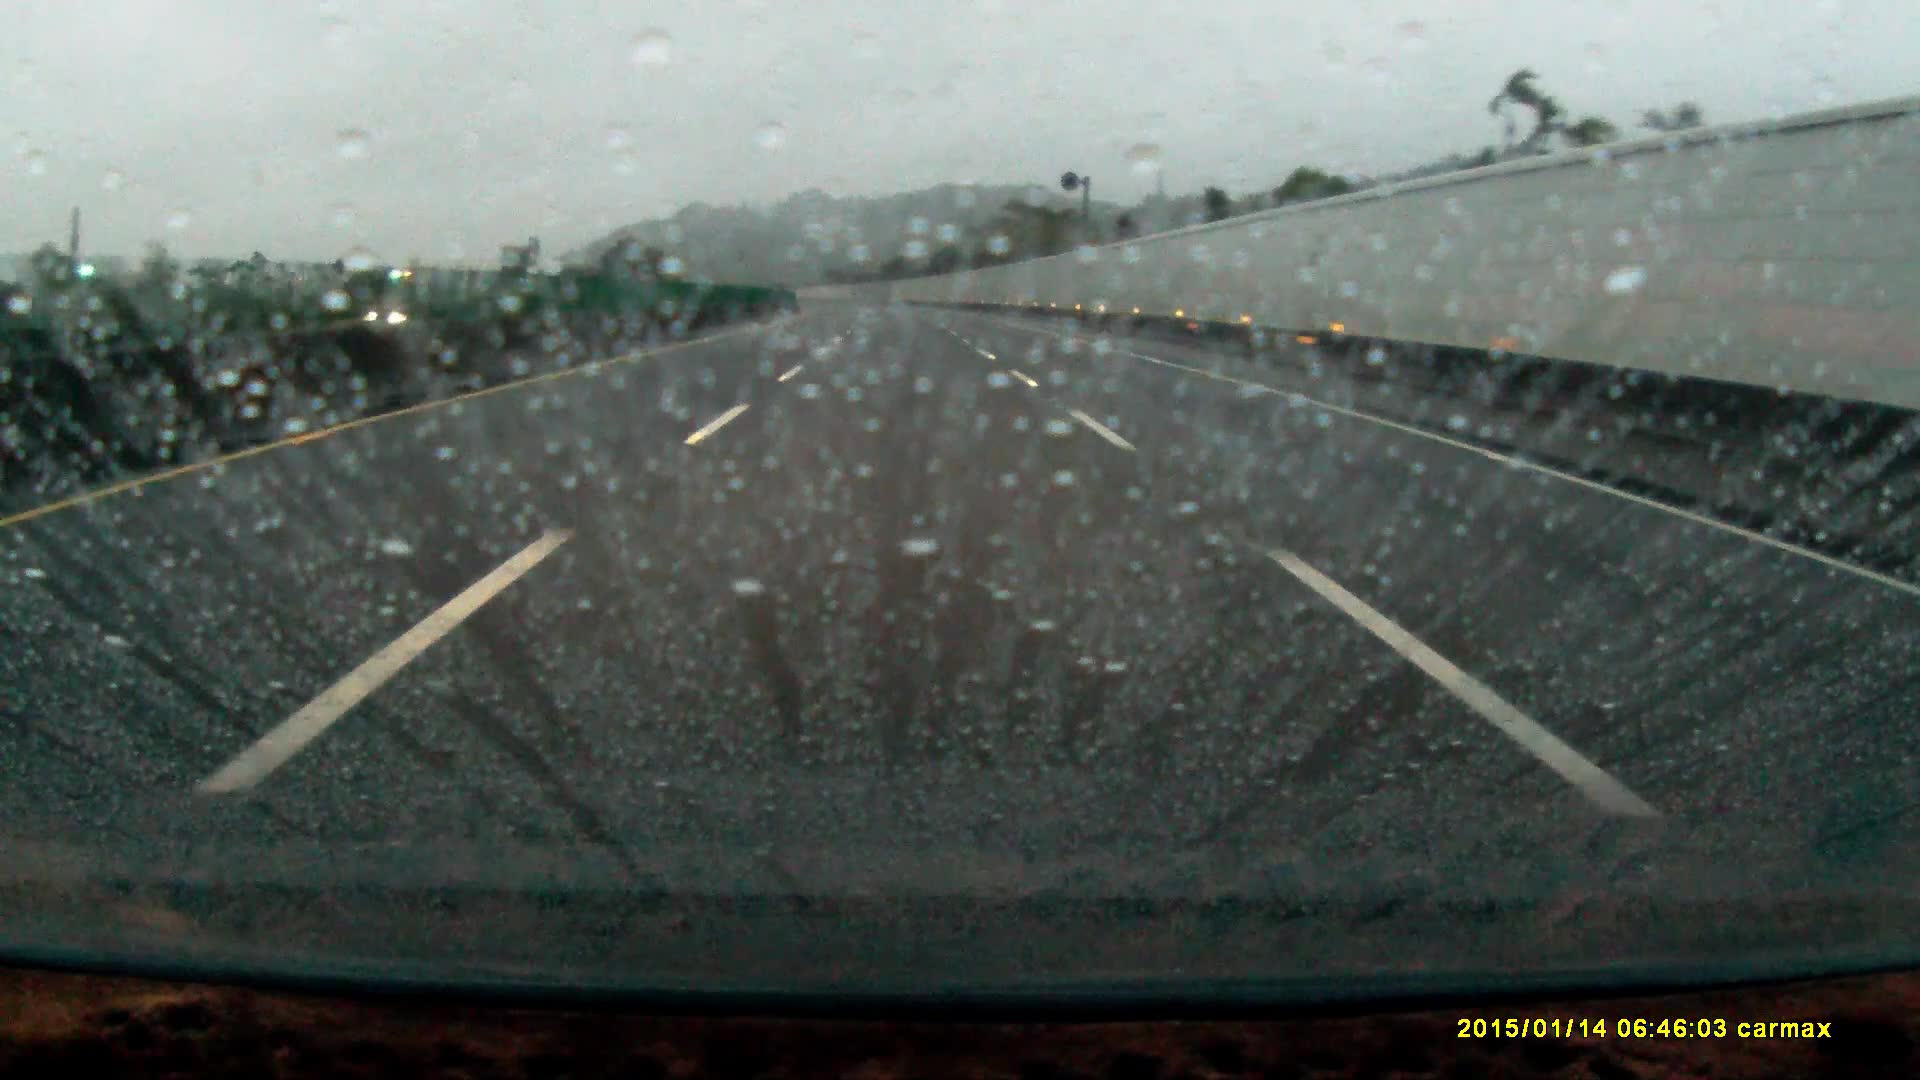vehicle: (334, 290, 433, 335)
